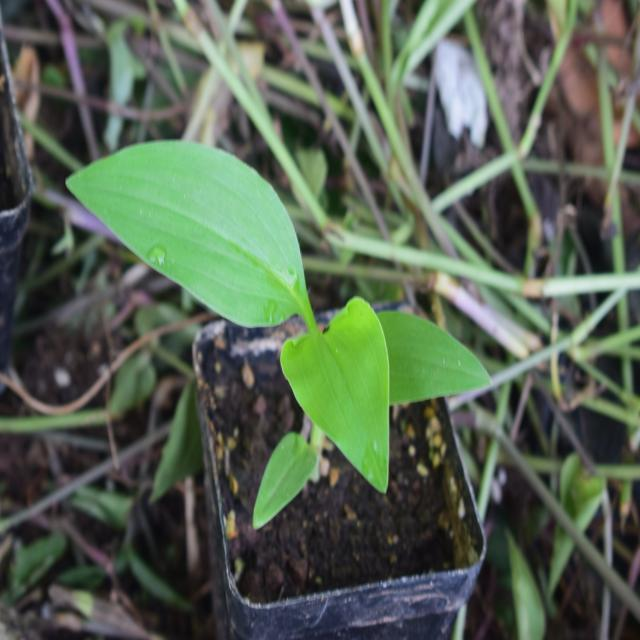Common Dayflower: (71, 130, 482, 493)
